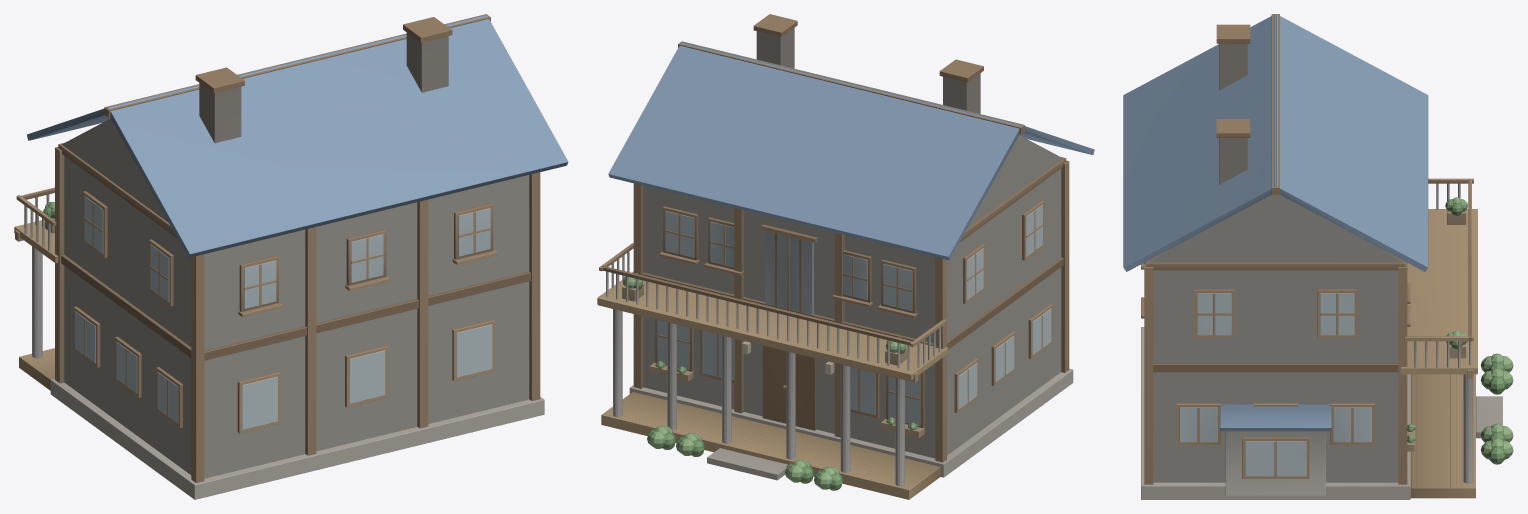
File: home_manor2__blue.glb
3 views of the same model, side by side, from view 1: azimuth 30°, elevation 25°; view 2: azimuth 150°, elevation 25°; view 3: azimuth 270°, elevation 25° (orthographic). The views are drawn at different scales.
Bounding box in the file's own units: 11.05 × 9.84 × 10.13.
